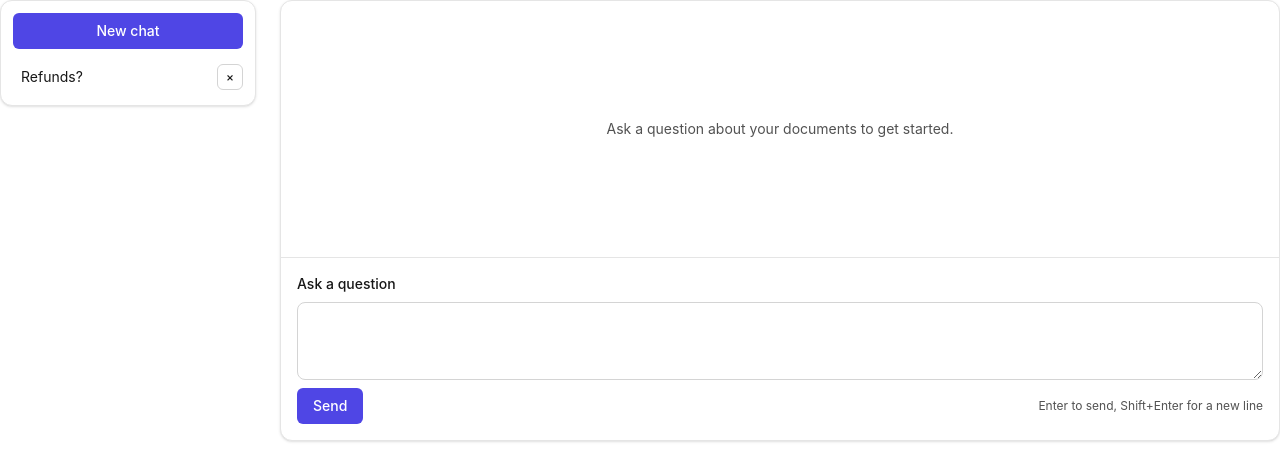
Scenario: ChatPanel › ignores an open that finishes after a new question was asked
Click the button "Refunds?" at (113, 77), box x1=13 y1=61 x2=213 y2=93
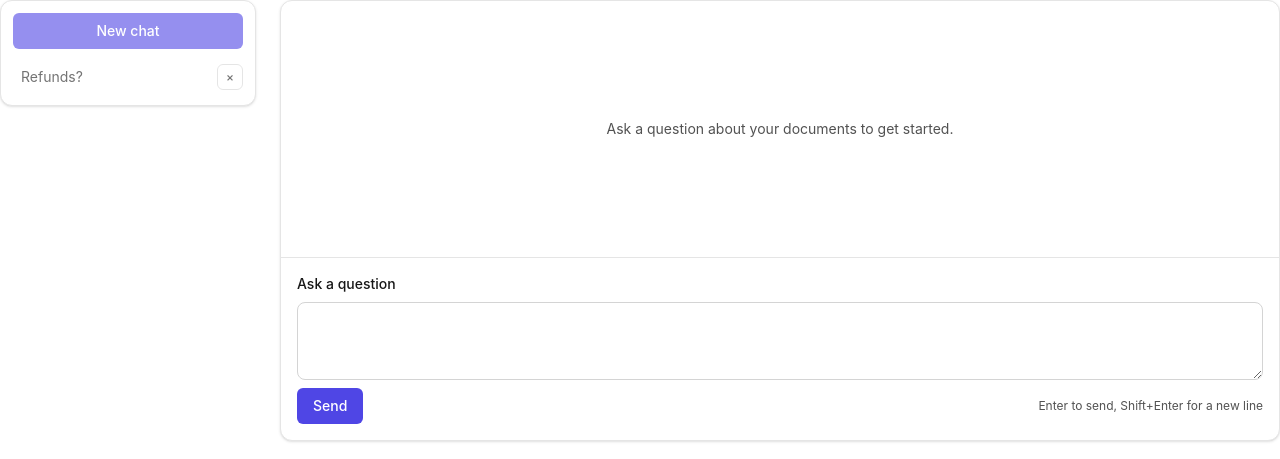
Type "Asked while the chat was still loading" into the text box labelled "Ask a question" at (780, 341), box x1=297 y1=302 x2=1263 y2=380
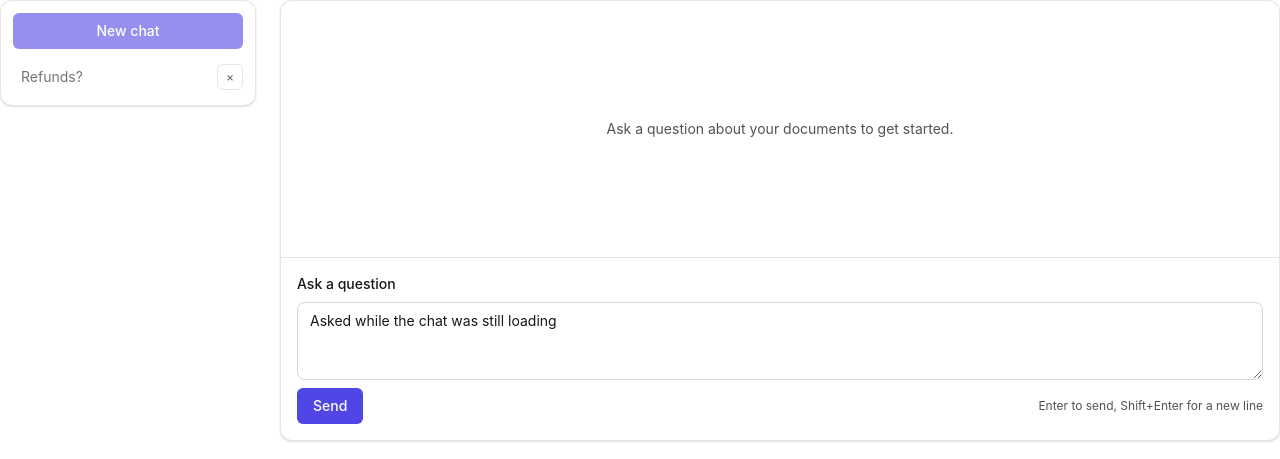
Click the button "Send" at (330, 406), box x1=297 y1=388 x2=363 y2=424
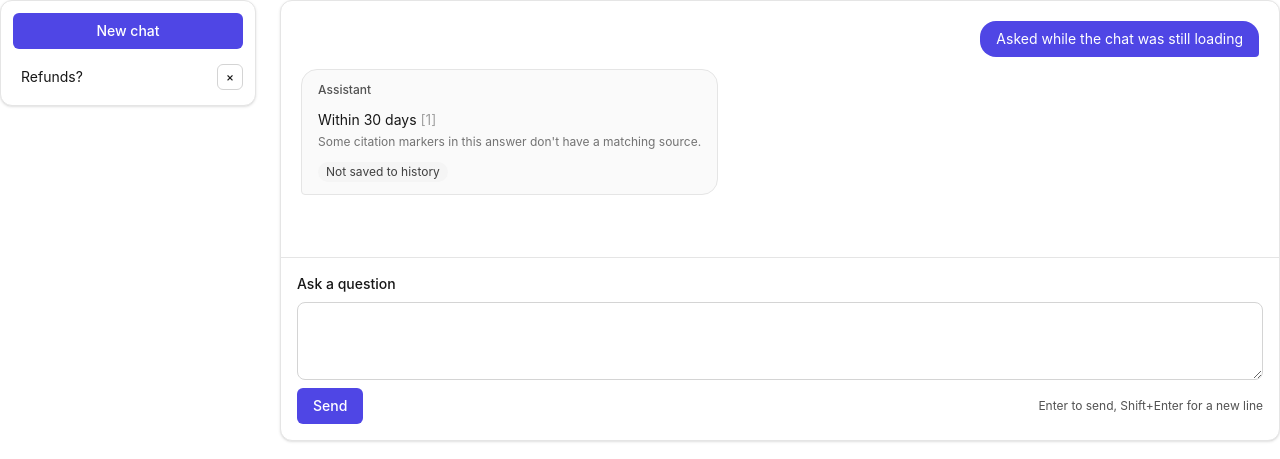
Check: the text "Within 30 days" is shown, box x1=318 y1=111 x2=420 y2=128
